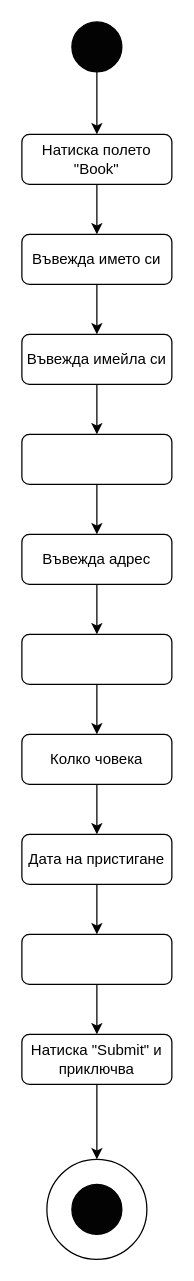
Image size: 194x1281. Some labels were removed from this diagram. Each missing label, with the centre of its shape:
"Въвежда тел. номер" goes at (x=96, y=458).
"Дата на напускане" goes at (x=96, y=958).
"Къде отива" goes at (x=96, y=658).
